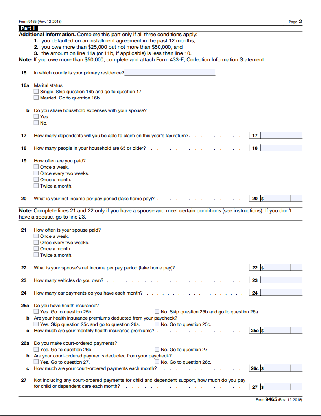checkbox: (32, 169, 40, 176), (32, 232, 40, 239), (32, 308, 40, 315), (154, 308, 162, 315), (32, 320, 40, 327), (32, 88, 40, 94), (32, 94, 40, 100), (32, 120, 40, 126), (32, 163, 40, 169), (32, 182, 40, 188), (32, 239, 40, 245), (32, 245, 40, 251), (32, 252, 40, 258), (153, 321, 161, 327), (33, 113, 40, 119), (33, 176, 40, 182), (33, 346, 40, 352), (153, 346, 160, 352), (154, 359, 161, 365), (33, 358, 40, 364)
textbox: (259, 273, 304, 284), (259, 286, 304, 296), (260, 130, 303, 140), (259, 143, 302, 153), (259, 324, 293, 335), (260, 261, 293, 272), (259, 193, 292, 203), (260, 362, 293, 372), (259, 381, 292, 391), (288, 325, 304, 335), (289, 362, 305, 372), (289, 381, 305, 391), (289, 261, 303, 272), (289, 193, 303, 203)
textline: (124, 68, 217, 77)
